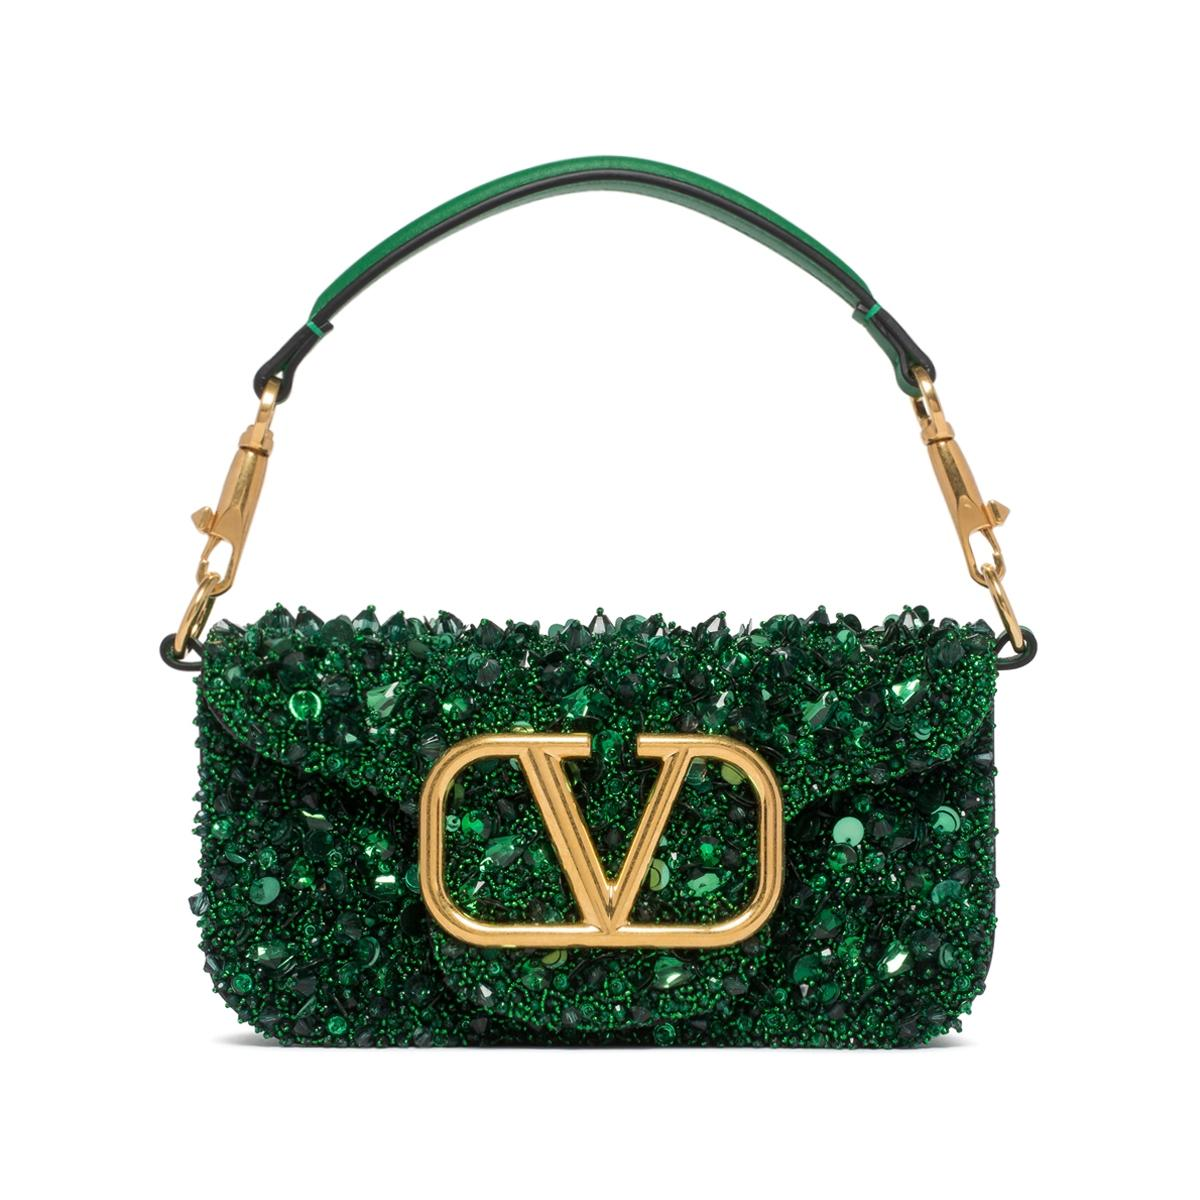VALENTINO: (420, 733, 784, 946)
